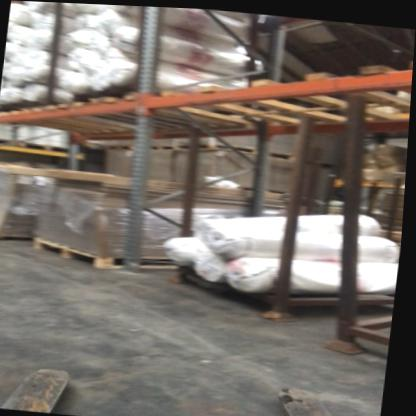vertical_damage: (124, 253, 149, 273)
